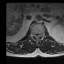CCS_normal: (36, 32, 38, 40)
LFS_normal: (40, 31, 42, 38)
LLS_normal: (38, 31, 40, 39)
RFS_normal: (32, 31, 34, 38)
RLS_normal: (34, 32, 36, 39)
